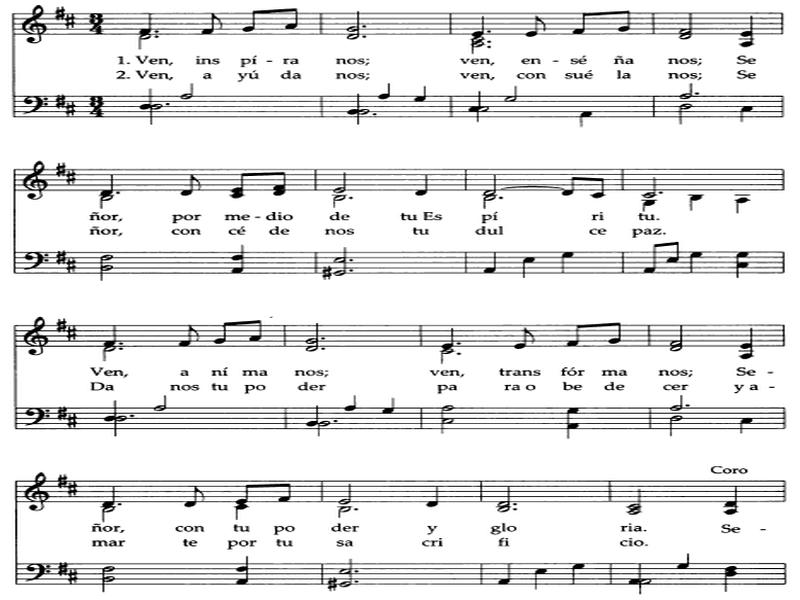B: (617, 477, 663, 519), (673, 1, 708, 44), (667, 317, 692, 355), (91, 249, 117, 285), (334, 473, 362, 504), (331, 165, 360, 194), (340, 2, 360, 44), (95, 560, 119, 594), (435, 403, 458, 436), (337, 557, 357, 594), (297, 323, 320, 353), (497, 481, 515, 516), (666, 414, 686, 444), (331, 246, 347, 281), (483, 168, 499, 196), (174, 85, 197, 103), (665, 394, 685, 414), (677, 104, 695, 126), (677, 80, 695, 102), (149, 100, 165, 124), (151, 394, 169, 415), (97, 194, 119, 211), (332, 503, 350, 522), (477, 194, 495, 210), (645, 174, 657, 198), (505, 85, 520, 102), (327, 194, 345, 207), (99, 348, 116, 360)
C: (208, 309, 237, 351), (565, 306, 590, 351), (520, 7, 554, 40), (176, 318, 205, 355), (636, 241, 660, 285), (603, 304, 625, 352), (264, 155, 289, 197), (198, 9, 231, 39), (567, 1, 593, 37), (229, 163, 251, 203), (179, 476, 207, 507), (171, 174, 207, 198), (611, 2, 633, 37), (584, 168, 607, 201), (244, 311, 265, 344), (667, 234, 689, 264), (272, 475, 289, 510), (233, 476, 253, 505), (562, 168, 579, 196), (517, 326, 537, 348)
CF: (18, 394, 53, 439), (22, 239, 55, 279), (17, 88, 49, 122), (26, 552, 50, 584)
CS: (19, 296, 52, 366), (22, 454, 54, 516), (20, 150, 52, 208), (17, 1, 52, 48)
N: (716, 554, 746, 598), (217, 244, 257, 274), (733, 323, 762, 364), (555, 402, 588, 437), (522, 561, 556, 593), (507, 248, 537, 284), (719, 484, 750, 518), (734, 11, 762, 48), (416, 479, 449, 510), (553, 244, 580, 278), (729, 245, 754, 281), (241, 1, 266, 34), (277, 4, 304, 34), (433, 317, 457, 350), (234, 554, 257, 588), (133, 3, 156, 34), (675, 546, 702, 572), (687, 244, 709, 275), (479, 247, 503, 275), (97, 314, 118, 346), (562, 560, 589, 584), (574, 103, 601, 126), (678, 189, 705, 212), (95, 167, 117, 195), (97, 479, 117, 508), (494, 561, 516, 587), (737, 97, 757, 125), (302, 399, 321, 428), (737, 414, 759, 439), (102, 391, 118, 423), (468, 13, 488, 38), (467, 84, 484, 112), (413, 174, 432, 198), (731, 196, 752, 216), (377, 396, 399, 415), (625, 560, 642, 584), (411, 82, 430, 103), (337, 392, 354, 414), (377, 75, 390, 102), (346, 91, 360, 116), (137, 91, 152, 110), (639, 200, 658, 212)
SOS: (65, 101, 85, 122), (321, 574, 340, 594), (50, 1, 65, 20), (54, 558, 68, 577), (54, 159, 67, 178), (55, 405, 69, 422), (54, 473, 67, 491), (66, 325, 78, 344), (319, 266, 332, 283), (54, 92, 65, 111), (52, 251, 68, 264), (66, 257, 79, 273), (65, 14, 77, 31), (54, 316, 66, 332), (68, 169, 78, 188), (66, 484, 79, 498), (68, 414, 80, 429), (68, 571, 80, 585)
